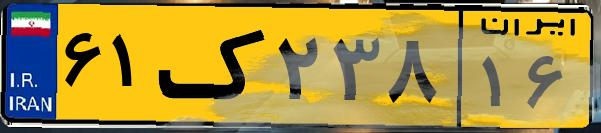1: (475, 38, 525, 113), (110, 28, 158, 98)
2: (270, 28, 330, 110)
3: (330, 28, 385, 110)
6: (57, 26, 110, 100), (525, 38, 570, 115)
8: (385, 28, 445, 110)
ک: (158, 12, 270, 120)
